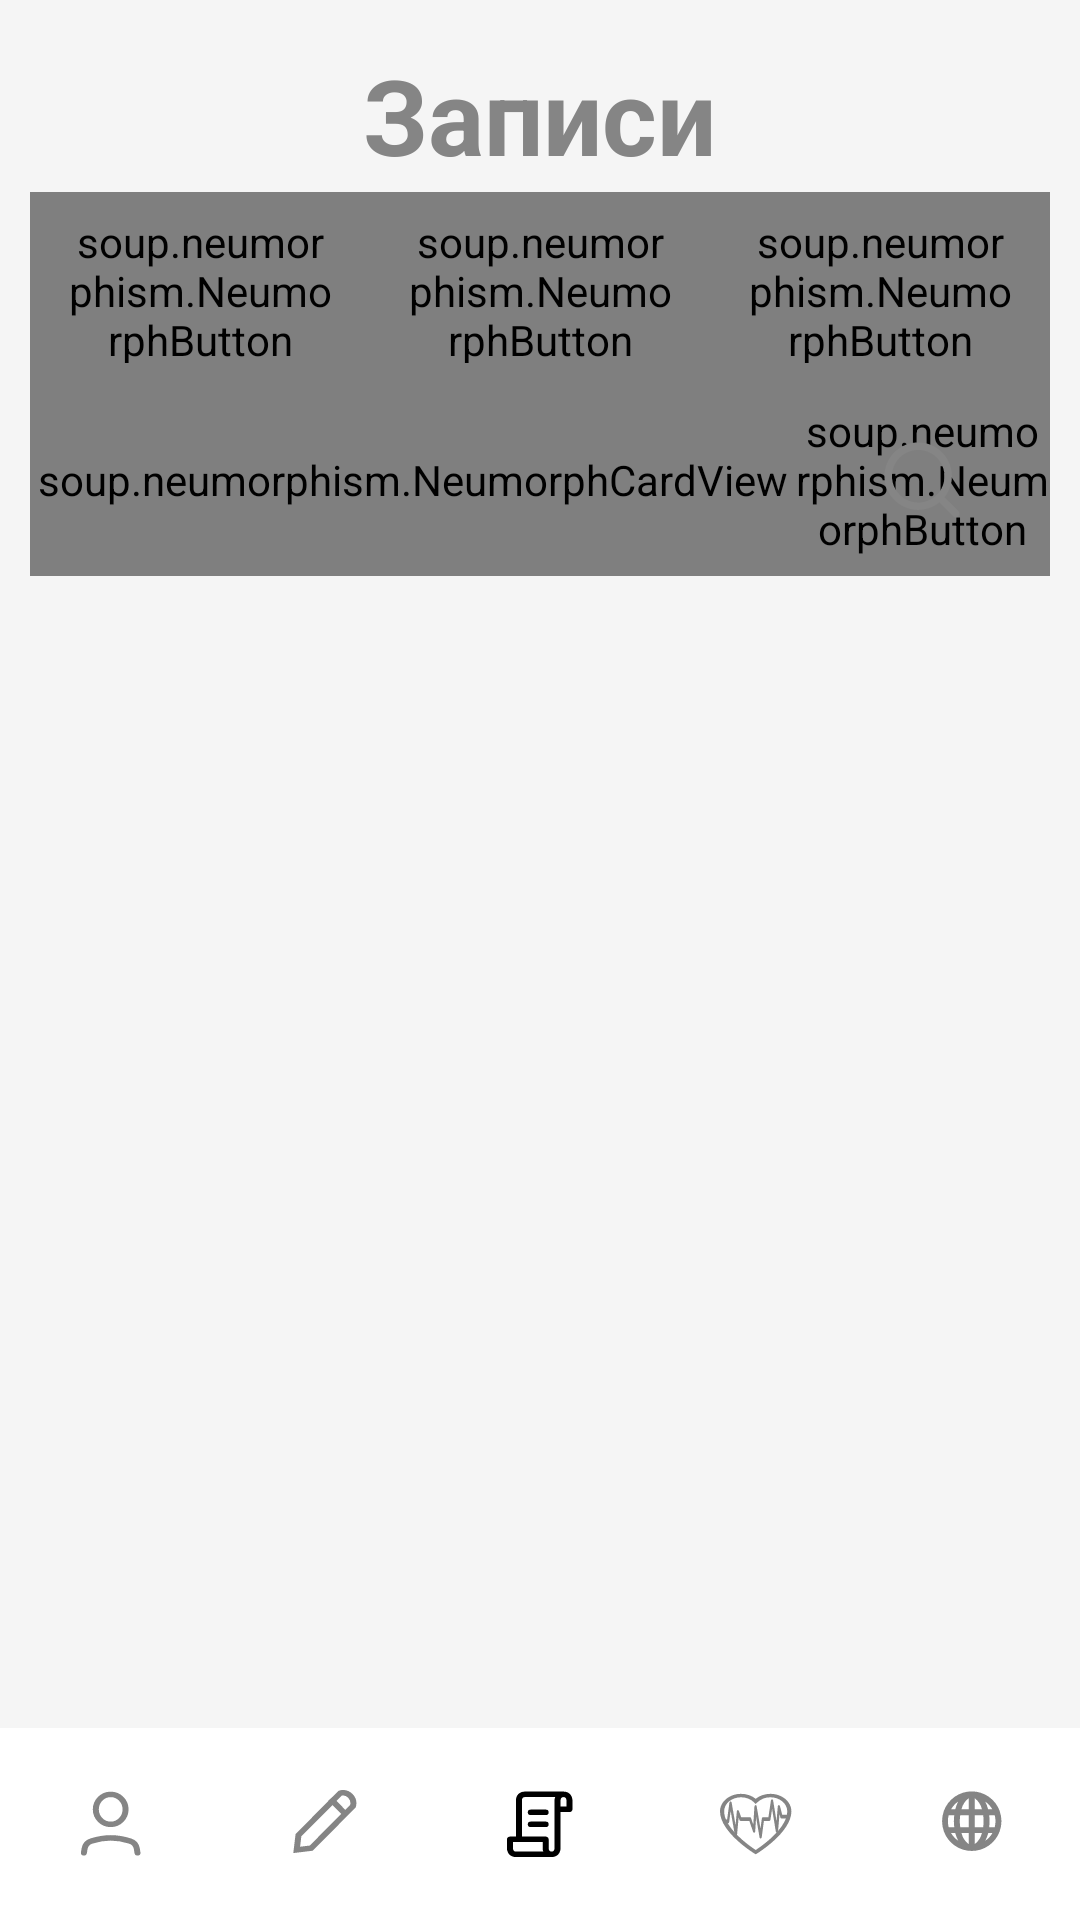

Screen size 1080 × 1920. Icon name, then its box in pixels as [left=x1, top=y1, right=x2, bottom=y2]:
edit: [left=293, top=1790, right=357, bottom=1853]
heart: [left=720, top=1793, right=792, bottom=1854]
profile: [left=81, top=1791, right=141, bottom=1856]
scroll: [left=507, top=1791, right=573, bottom=1857]
